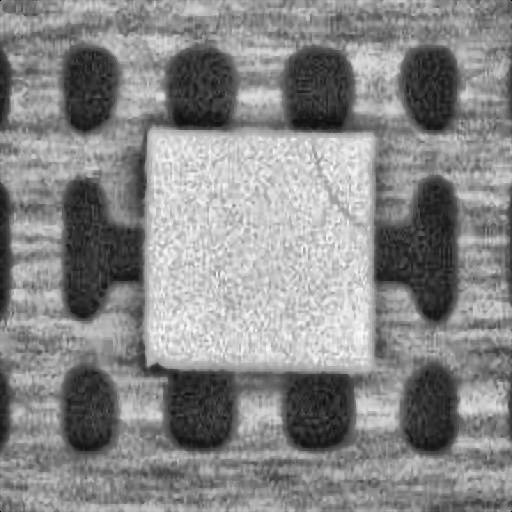DIE_CRACK: (306, 136, 366, 226)
